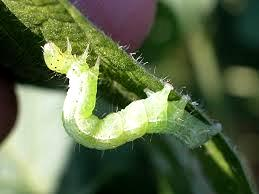Lobster Moth: (38, 37, 192, 157)
